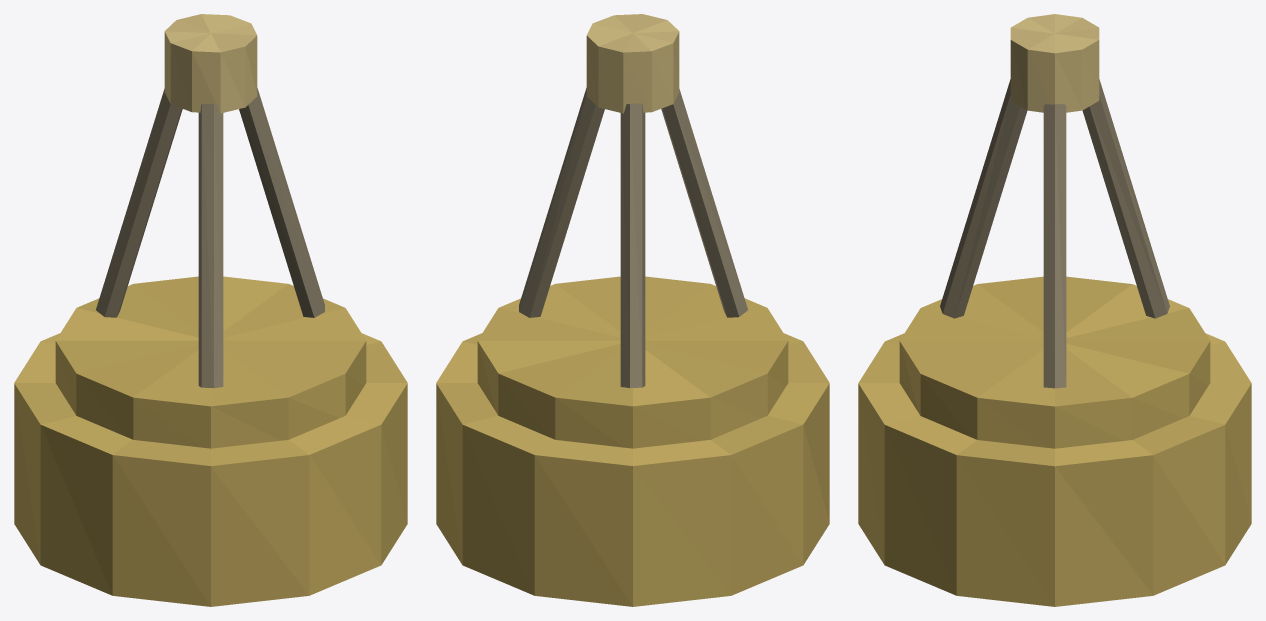
Rendered from buoy_yellow.glb.
3 renders of one model, left to right at view 1: azimuth 30°, elevation 25°; view 2: azimuth 150°, elevation 25°; view 3: azimuth 270°, elevation 25°, orthographic.
Parts seen in each view (by area): view 1: base, upper, light, strut_2, strut_0, strut_1; view 2: base, upper, light, strut_1, strut_0, strut_2; view 3: base, upper, light, strut_0, strut_1, strut_2.
Part boxes in pixels (x1,y1,x2,y2): base: (14, 333, 407, 606); upper: (55, 276, 366, 448); light: (164, 14, 257, 113); strut_2: (198, 103, 223, 388); strut_0: (239, 88, 324, 317); strut_1: (96, 89, 182, 317); base: (436, 333, 829, 606); upper: (477, 276, 788, 448); light: (586, 14, 679, 113); strut_1: (620, 103, 645, 388); strut_0: (519, 88, 604, 317); strut_2: (661, 89, 747, 317); base: (858, 333, 1251, 606); upper: (899, 276, 1210, 448); light: (1010, 14, 1099, 112); strut_0: (1043, 104, 1066, 388); strut_1: (1082, 79, 1169, 318); strut_2: (940, 79, 1027, 318).
Size of the model in its own units: 0.76 by 1.04 by 0.76.
